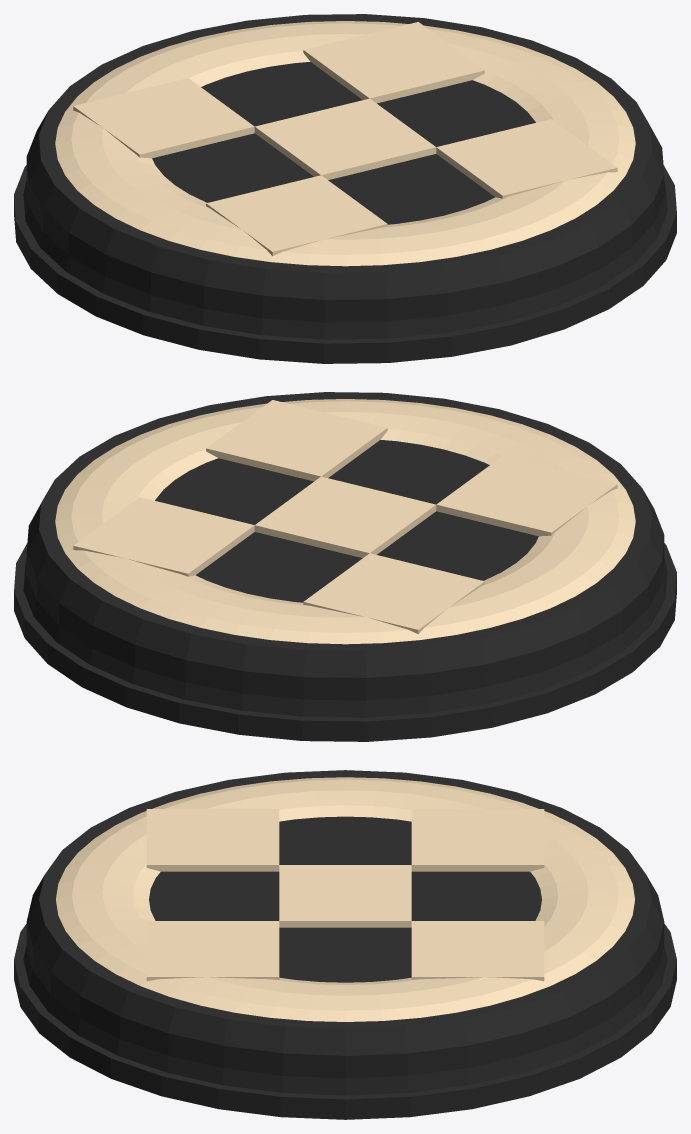
Rendered from blackchess-top.fbx.
The picture shows the model from 3 angles, top to bottom: view 1: azimuth 30°, elevation 25°; view 2: azimuth 150°, elevation 25°; view 3: azimuth 270°, elevation 25°; orthographic projection.
Parts seen in each view (by area): view 1: top blade, Torus, Cube, Cube.002, Cube.001, Cube.004, Cube.003; view 2: top blade, Torus, Cube, Cube.004, Cube.003, Cube.002, Cube.001; view 3: top blade, Torus, Cube.001, Cube.003, Cube, Cube.002, Cube.004.
Part boxes in pixels (x1,y1,x2,y2): top blade: (14,14,676,363); Torus: (55,21,635,266); Cube: (254,98,436,179); Cube.002: (303,22,484,103); Cube.001: (73,78,254,158); Cube.004: (436,119,617,198); Cube.003: (206,175,387,256); top blade: (14,392,676,741); Torus: (55,399,635,644); Cube: (254,476,436,557); Cube.004: (206,400,387,481); Cube.003: (436,456,617,536); Cube.002: (73,497,254,576); Cube.001: (303,553,484,634); top blade: (14,770,676,1119); Torus: (56,777,634,1021); Cube.001: (411,809,544,871); Cube.003: (146,809,279,871); Cube: (279,865,411,927); Cube.002: (411,921,544,981); Cube.004: (146,921,279,981).
Size of the model in its own units: 900 by 130 by 900.
